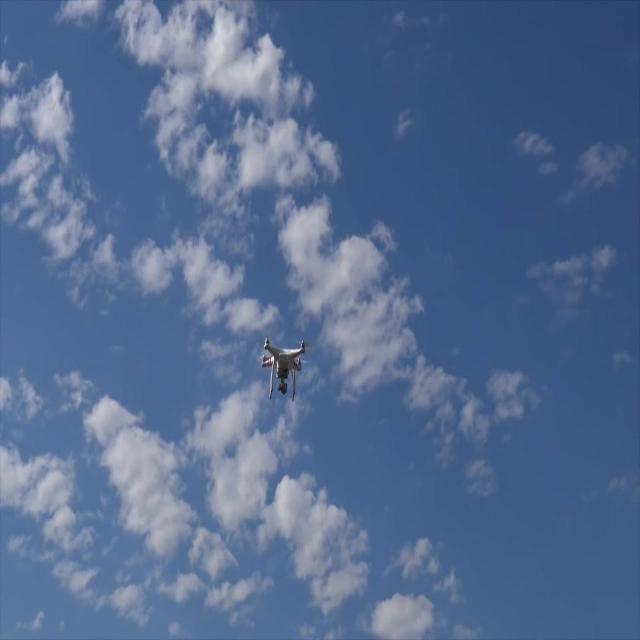drone: (258, 332, 310, 404)
